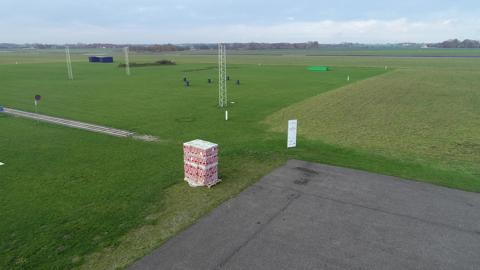RockwoolPallet: (183, 139, 220, 188)
